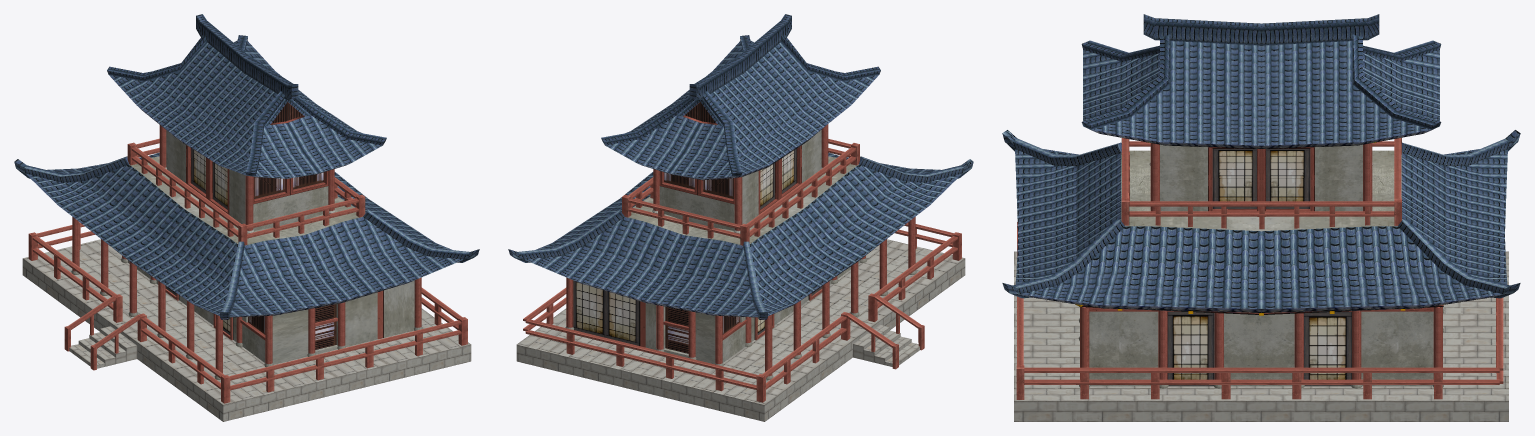
The model's file is templo1.obj.
3 renders of one model, left to right at view 1: azimuth 30°, elevation 25°; view 2: azimuth 150°, elevation 25°; view 3: azimuth 270°, elevation 25°, orthographic. The views are drawn at different scales.
Parts seen in each view (by area): view 1: Export; view 2: Export; view 3: Export.
Boxes of the visible parts, <box> form: Export: <box>14,14,479,421</box>; Export: <box>508,14,973,421</box>; Export: <box>1002,14,1520,421</box>.
Bounding box in the file's own units: 48.09 × 41.34 × 58.62.
9 materials, 9 textured.
